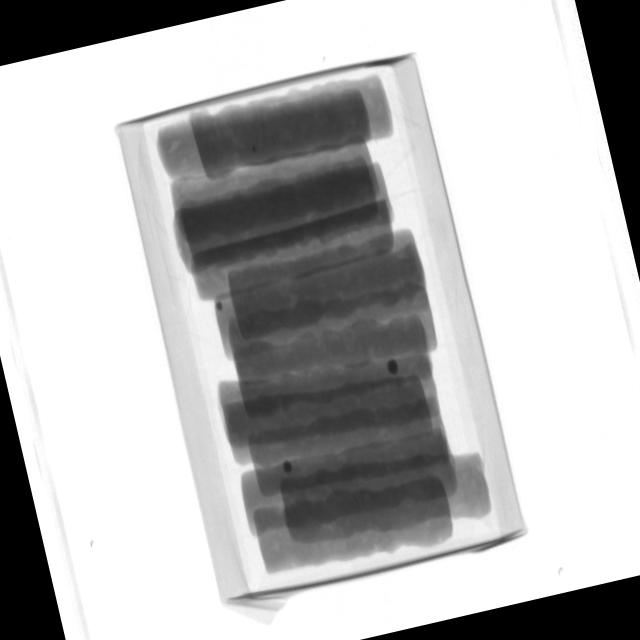ym: (387, 359, 401, 377), (283, 461, 294, 475), (215, 301, 225, 312), (252, 146, 259, 153)
